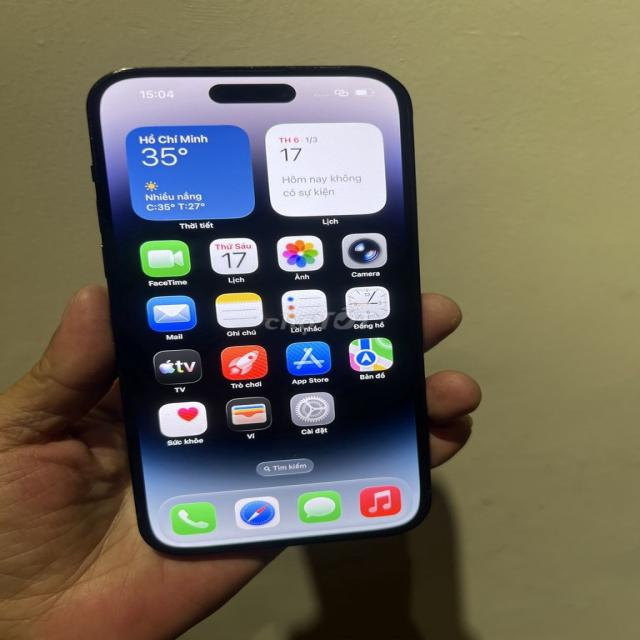gen_14: (90, 58, 441, 560)
